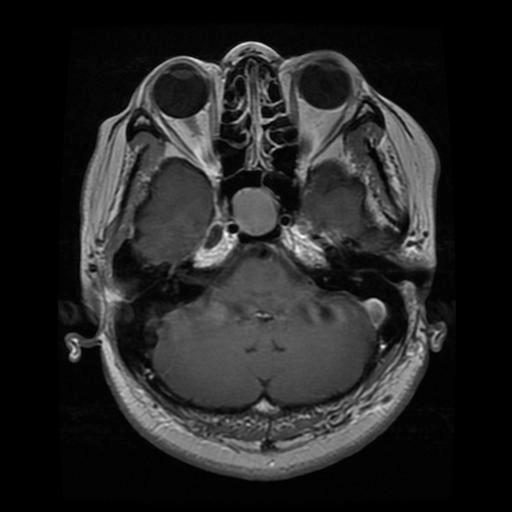Tumour-Pituitary: (225, 186, 294, 240)
